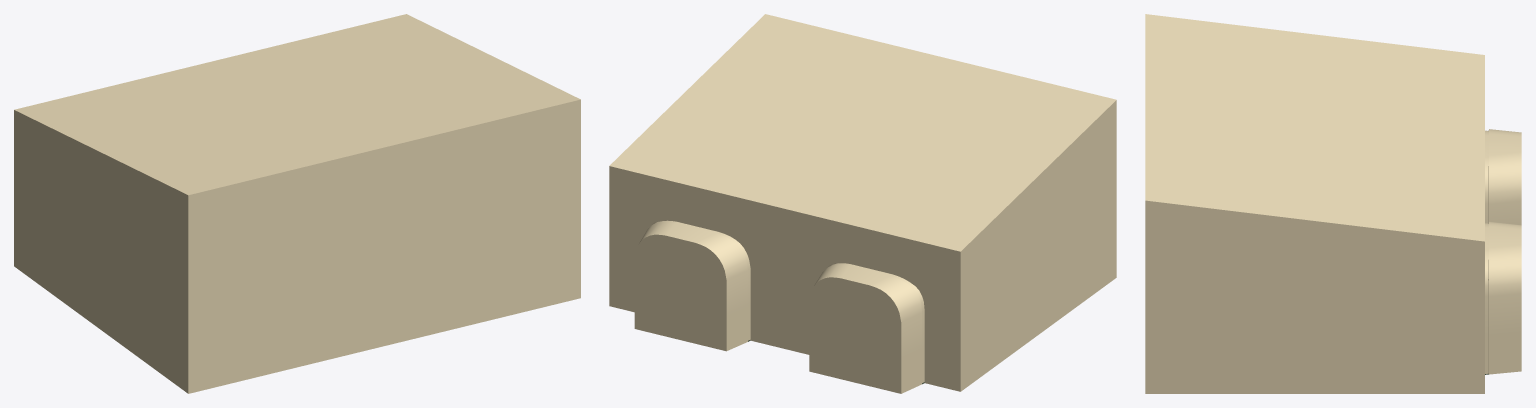
The model's file is Sala_paneles_a-c.fbx.
3 views of the same model, side by side, from view 1: azimuth 30°, elevation 25°; view 2: azimuth 150°, elevation 25°; view 3: azimuth 270°, elevation 25° (orthographic). The views are drawn at different scales.
Parts seen in each view (by area): view 1: Sala_paneles_a-c; view 2: Sala_paneles_a-c; view 3: Sala_paneles_a-c.
Part boxes in pixels (x1,y1,x2,y2): Sala_paneles_a-c: [14, 14, 580, 393]; Sala_paneles_a-c: [609, 14, 1116, 393]; Sala_paneles_a-c: [1145, 14, 1521, 393].
Bounding box in the file's own units: 1946 × 941 × 1661.
